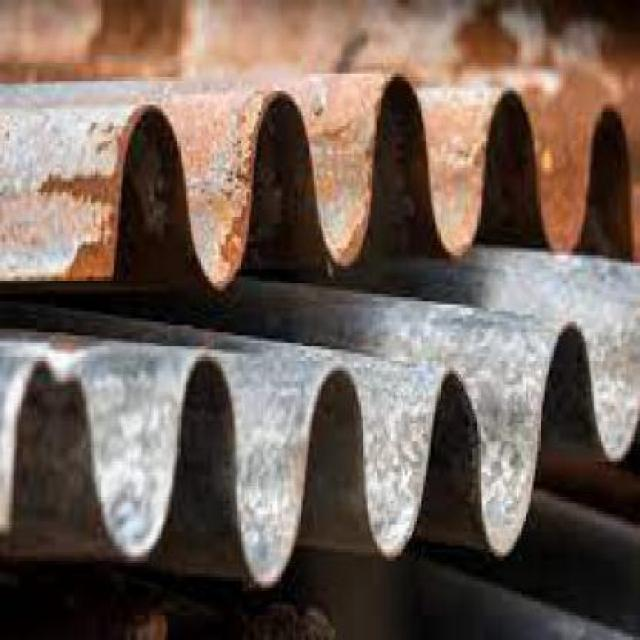Corrosion: (522, 70, 613, 252), (412, 78, 486, 260), (314, 78, 371, 266), (178, 96, 270, 174), (37, 168, 122, 217), (217, 192, 254, 276), (111, 100, 156, 164), (66, 242, 120, 280)
